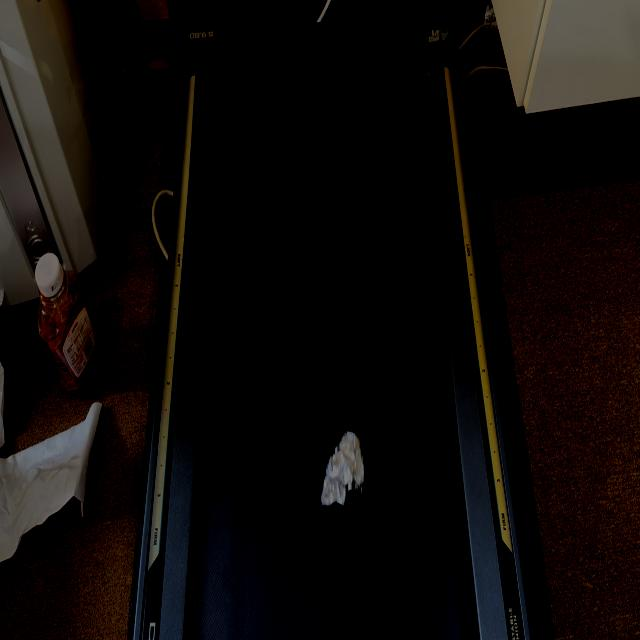Recycle: (320, 429, 366, 511)
